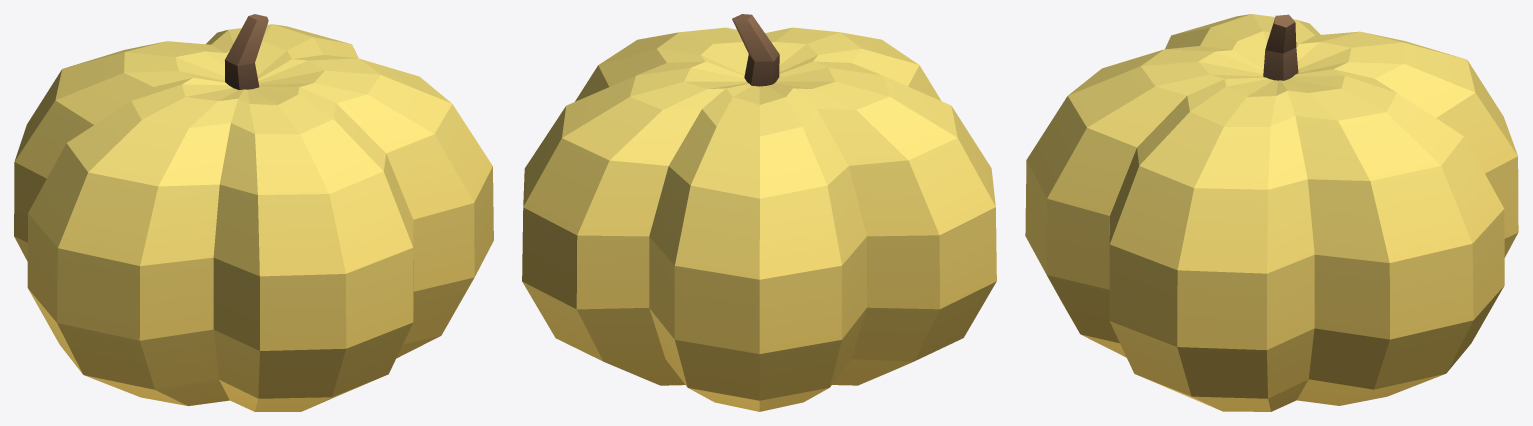
Rendered from pumpkin-yellow.glb.
3 renders of one model, left to right at view 1: azimuth 30°, elevation 25°; view 2: azimuth 150°, elevation 25°; view 3: azimuth 270°, elevation 25°, orthographic. The views are drawn at different scales.
Visible parts, largest first — view 1: pumpkin yellow; view 2: pumpkin yellow; view 3: pumpkin yellow.
Part boxes in pixels (x1,y1,x2,y2): pumpkin yellow: (14,14,493,411); pumpkin yellow: (522,14,996,411); pumpkin yellow: (1025,14,1518,411).
Bounding box in the file's own units: 0.5791 × 0.4594 × 0.5765.
Materials: 1 (1 with a texture image).
